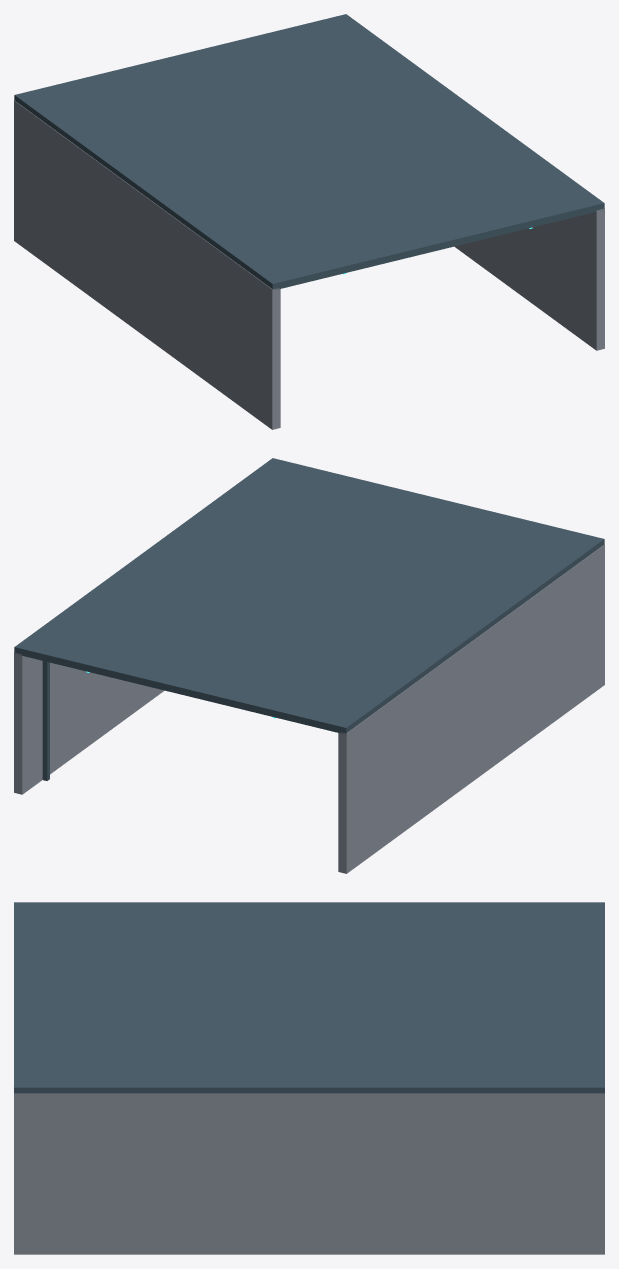
File: tunnel.glb
3 renders of one model, top to bottom at view 1: azimuth 30°, elevation 25°; view 2: azimuth 150°, elevation 25°; view 3: azimuth 270°, elevation 25°, orthographic. The views are drawn at different scales.
Parts seen in each view (by area): view 1: Landmark; view 2: Landmark; view 3: Landmark.
Part boxes in pixels (box(x1,y1,x2,y2)): Landmark: box(14, 14, 604, 429); Landmark: box(14, 458, 604, 873); Landmark: box(14, 902, 604, 1254).
Size of the model in its own units: 17.85 by 7.47 by 24.
